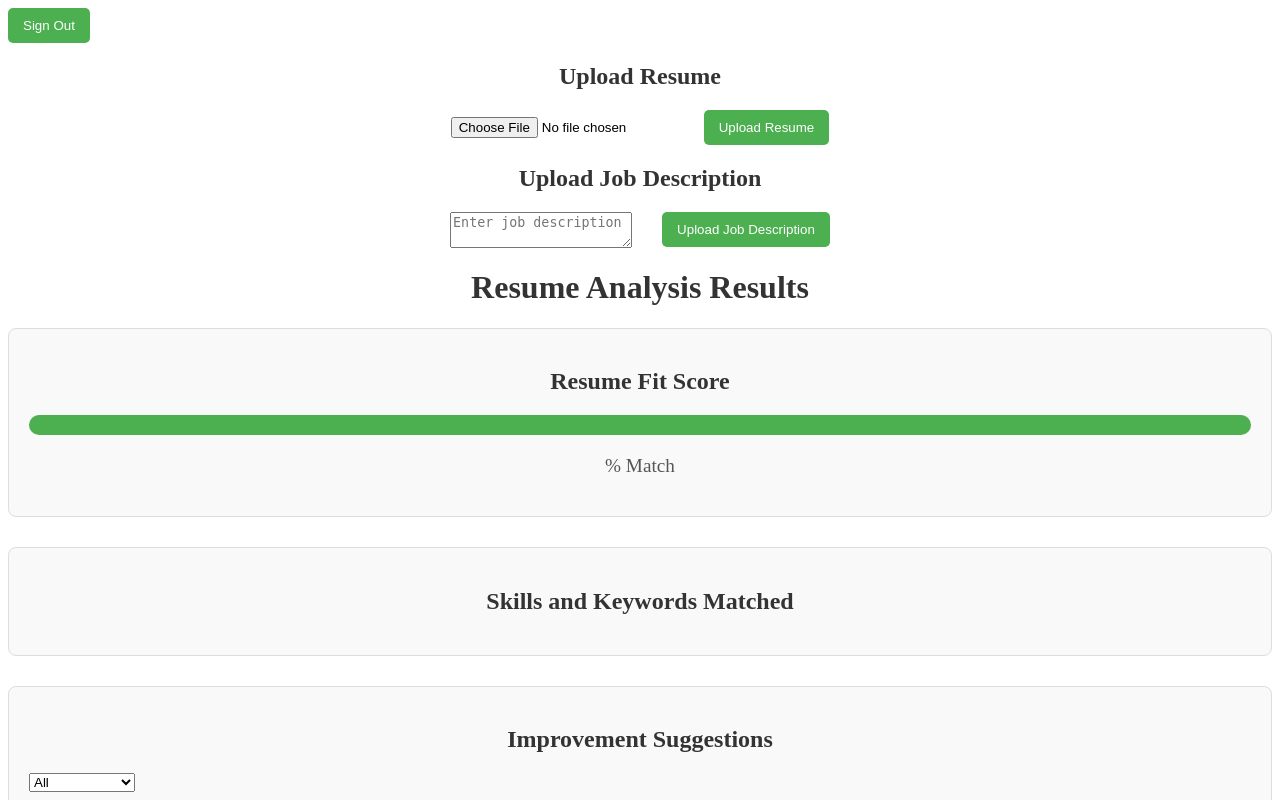
Scenario: Dashboard › handles error when uploading job description
Note: Simulate entering a job description in the textarea
In the text box with test id "description": (541, 230) top-left (450, 212), bottom-right (632, 248), type "Sample job description content"
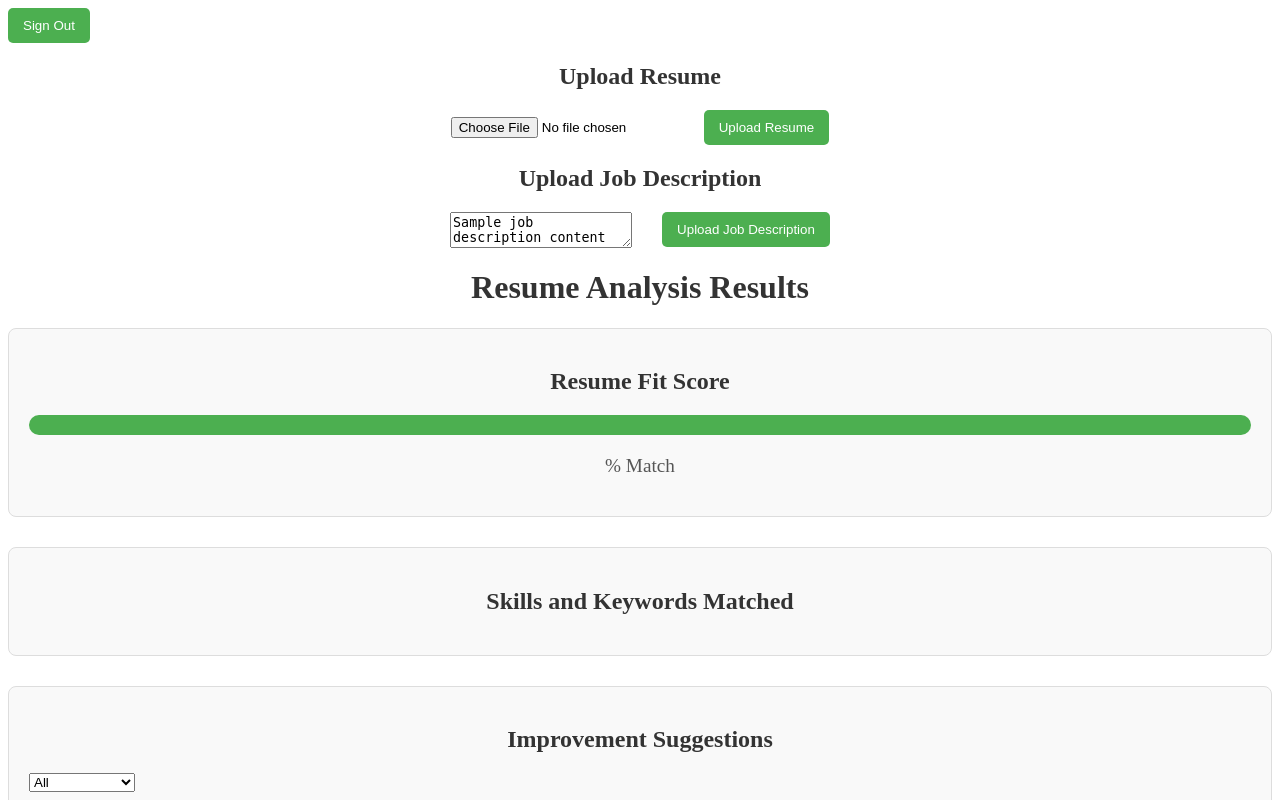
Note: Trigger the upload for the job description
Click the button "Upload Job Description": (746, 230) top-left (662, 212), bottom-right (830, 247)
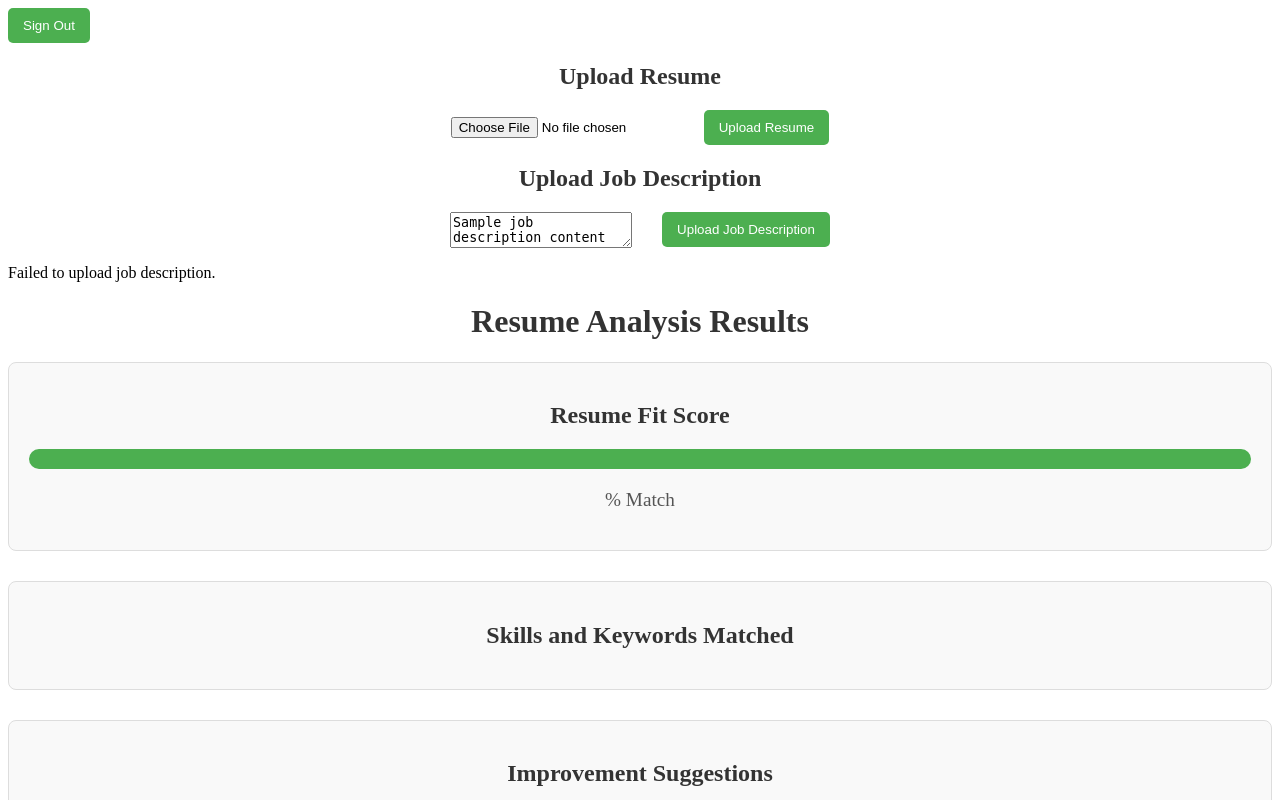
Result: the text "Failed to upload job description." is shown at top-left (8, 264), bottom-right (216, 281)
